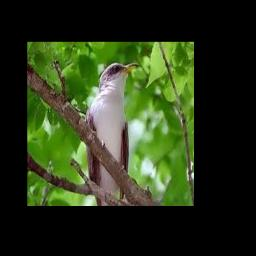Cuckoo: (85, 62, 138, 206)
